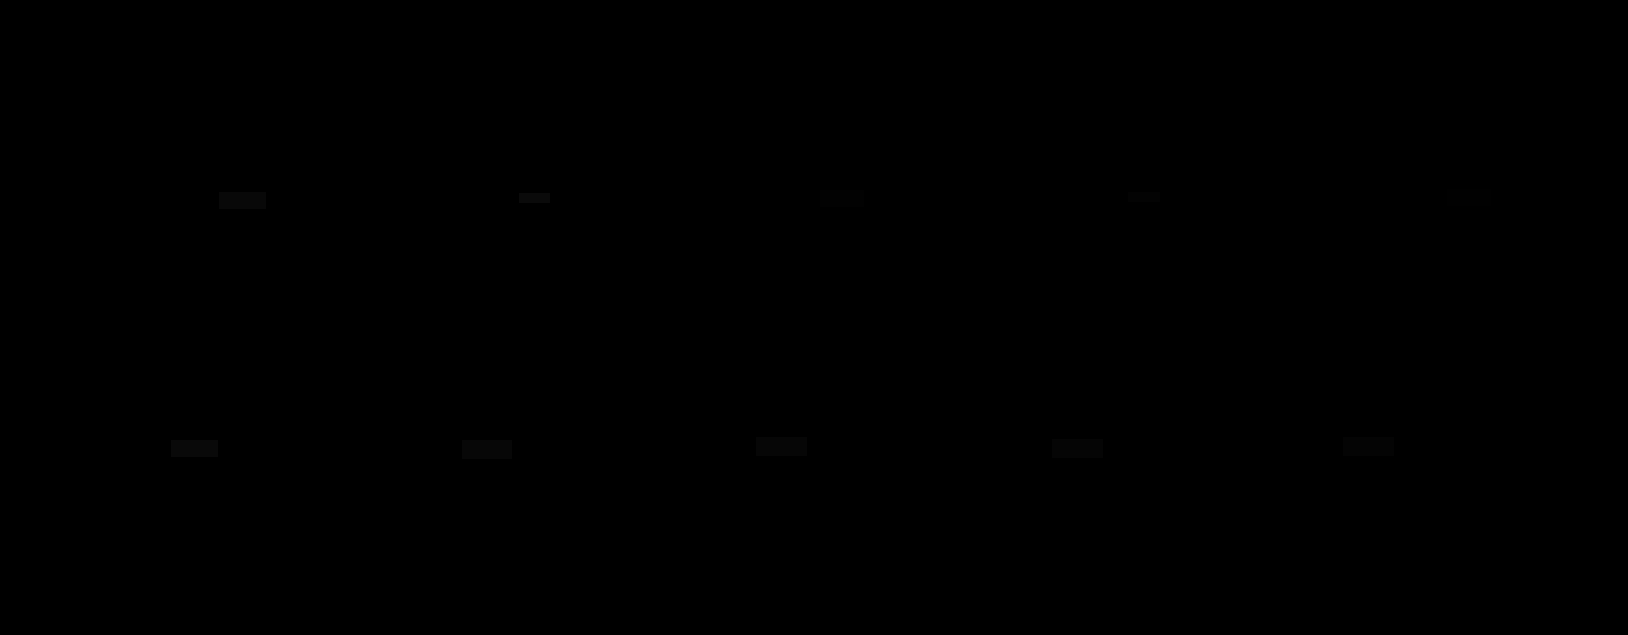light: (1344, 437, 1394, 455), (1052, 439, 1103, 458), (756, 437, 807, 455), (462, 440, 512, 459), (219, 192, 266, 209), (171, 440, 218, 457), (1447, 189, 1491, 206), (820, 190, 864, 208), (1128, 192, 1160, 202), (519, 193, 550, 203)
